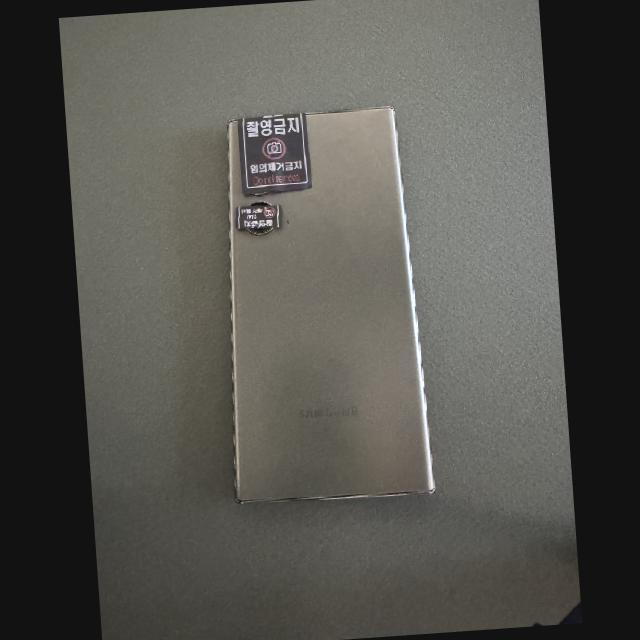lens: (248, 228, 272, 234)
phone: (228, 107, 434, 502)
sticker: (237, 112, 312, 196), (235, 204, 281, 229)
